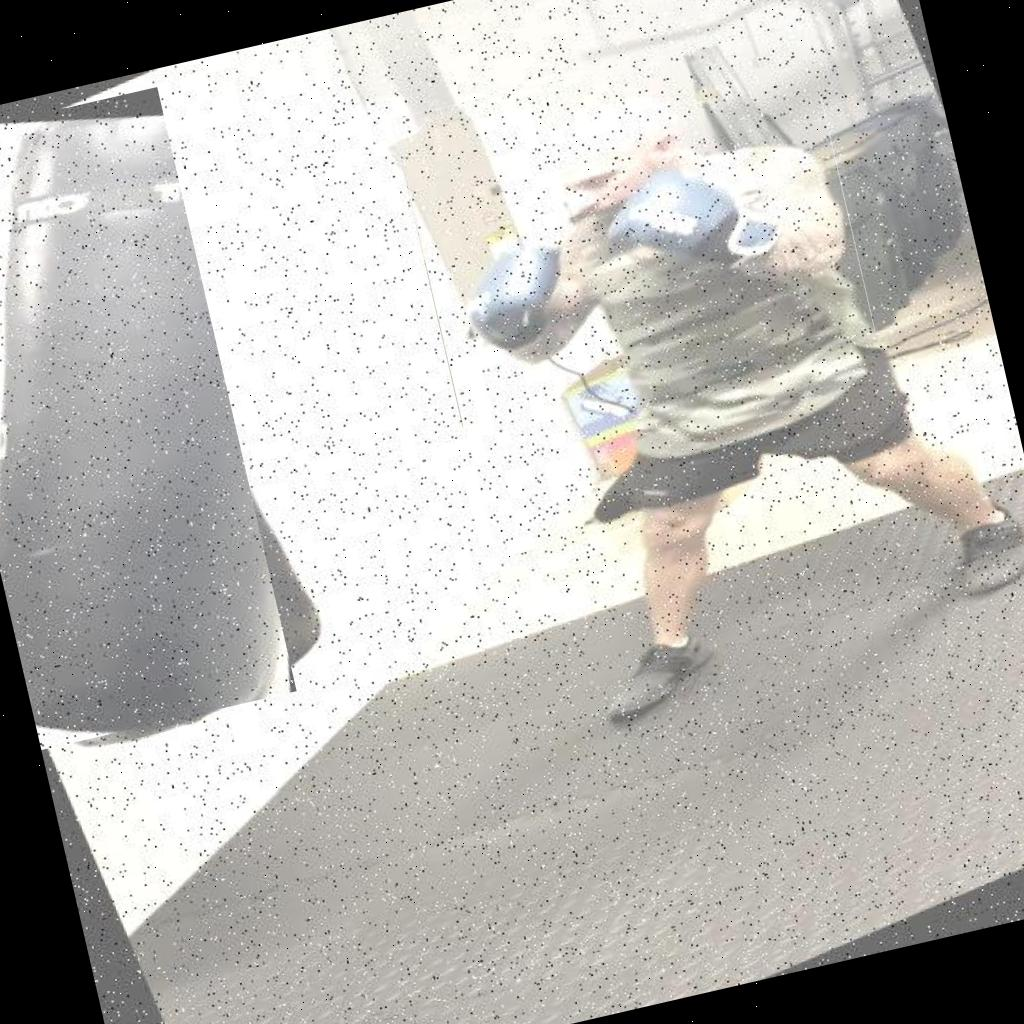bag: (0, 87, 297, 750)
no punch: (392, 24, 875, 426)
